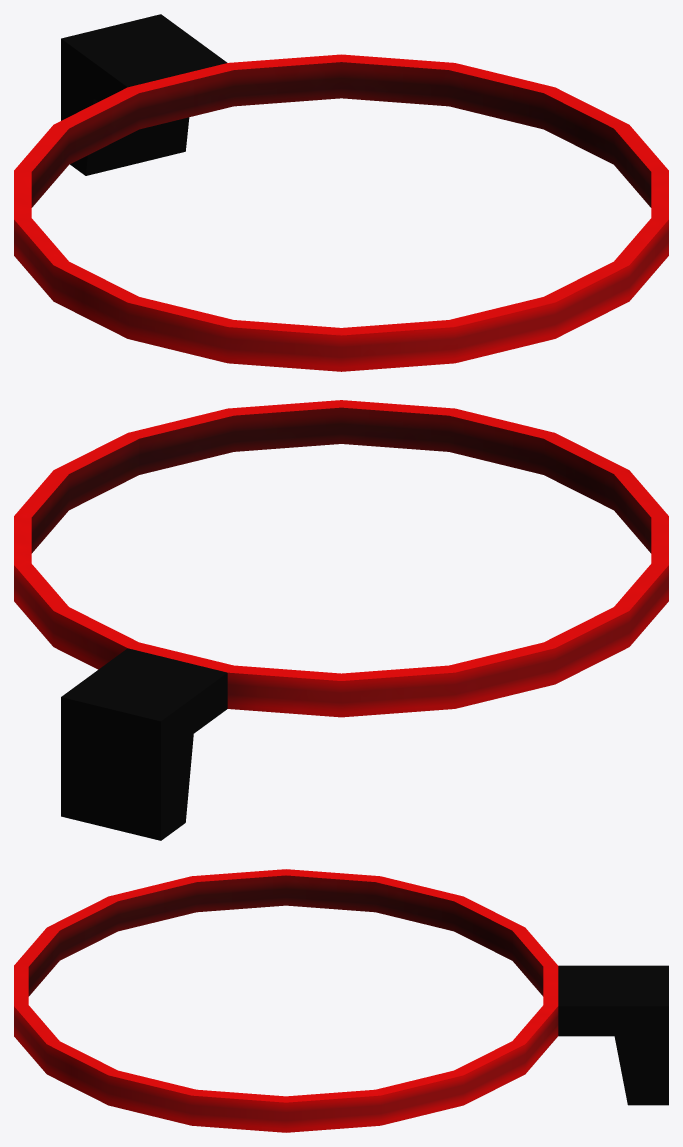
Rendered from Ring.FBX.
The picture shows the model from 3 angles, top to bottom: view 1: azimuth 30°, elevation 25°; view 2: azimuth 150°, elevation 25°; view 3: azimuth 270°, elevation 25°; orthographic projection. The views are drawn at different scales.
Parts seen in each view (by area): view 1: Ring; view 2: Ring; view 3: Ring.
Boxes of the visible parts, bbox=[...] form: Ring: bbox=[14, 14, 668, 371]; Ring: bbox=[14, 400, 668, 840]; Ring: bbox=[14, 869, 668, 1132].
Bounding box in the file's own units: 0.3276 × 0.0649 × 0.3883.
Materials: 1 (1 with a texture image).
